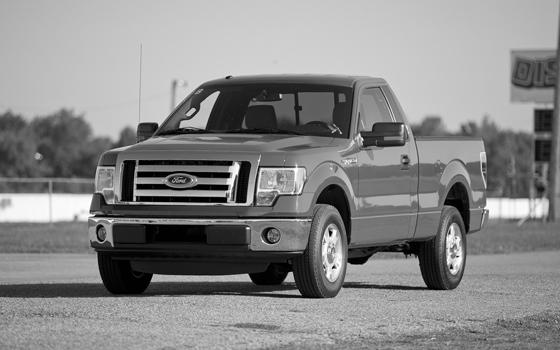car: (86, 73, 492, 298)
